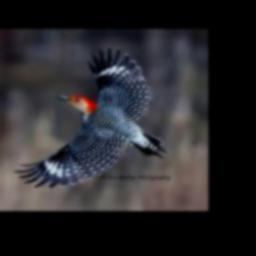Woodpecker: (14, 47, 167, 189)
